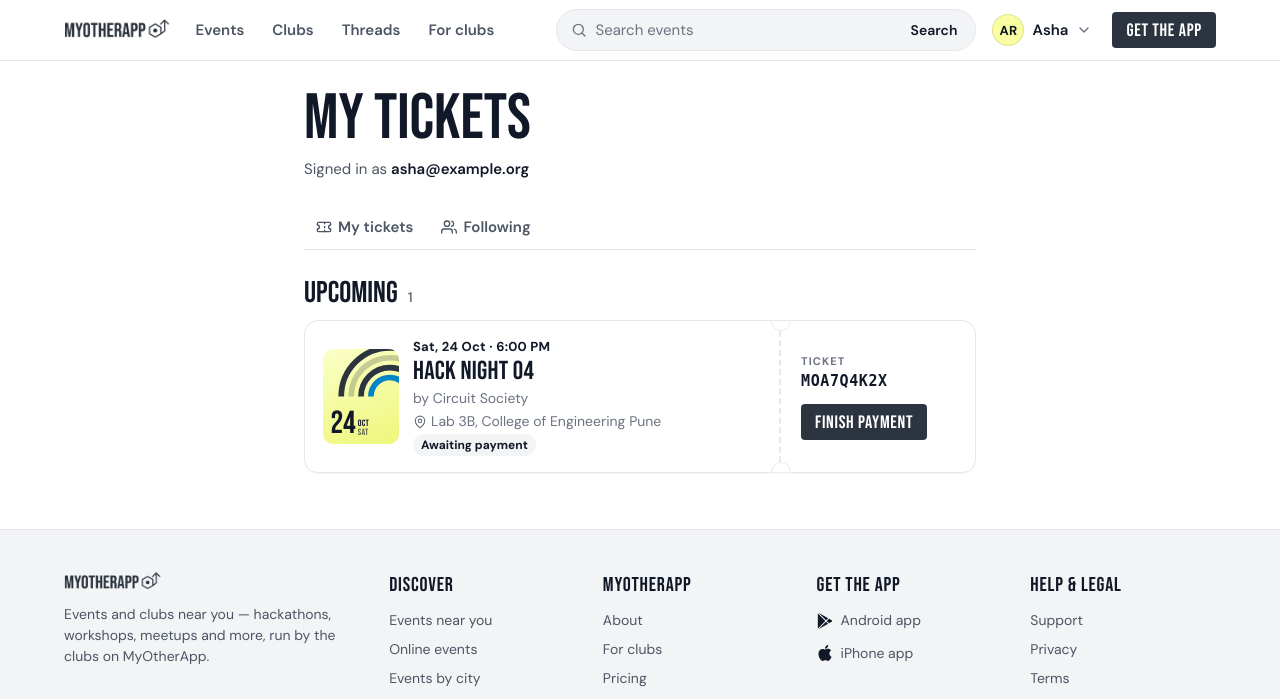
Test: Finish payment, from My tickets › says REGISTRATION_NOT_FOUND in words
Click the button with aria-label "Finish payment for Hack Night 04".
click(864, 422)  # box 801,404 -> 927,440
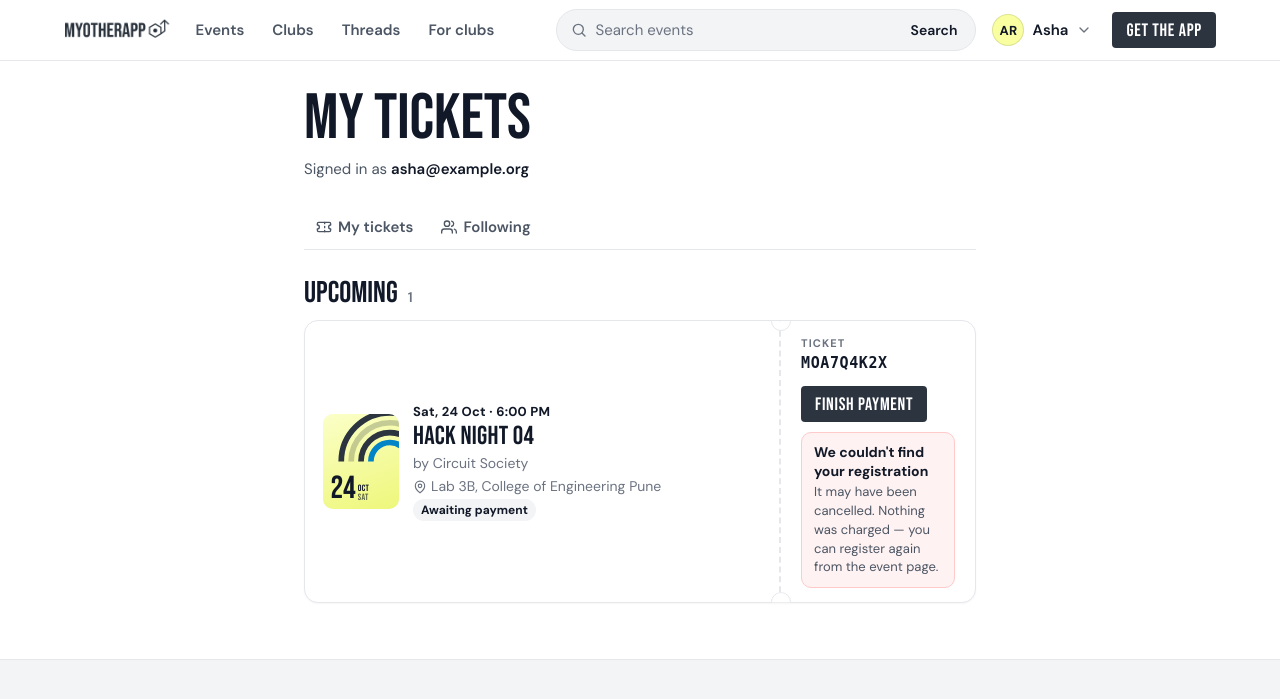
Expected: the message shows "We couldn't find your registration", 814,443 -> 928,480
